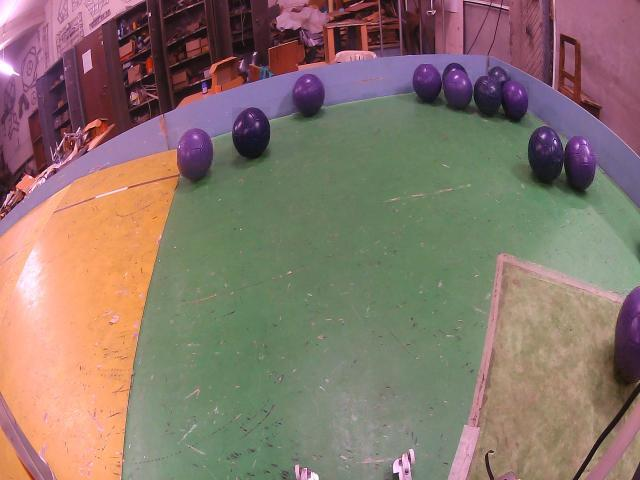jambhalya: (615, 286, 640, 381), (177, 128, 214, 182), (565, 136, 597, 191), (293, 75, 325, 116), (443, 70, 472, 110), (501, 81, 529, 121), (413, 65, 442, 101)
kaalyya: (529, 127, 564, 183), (233, 107, 270, 158), (474, 76, 502, 116), (442, 62, 466, 82), (489, 67, 509, 88)
